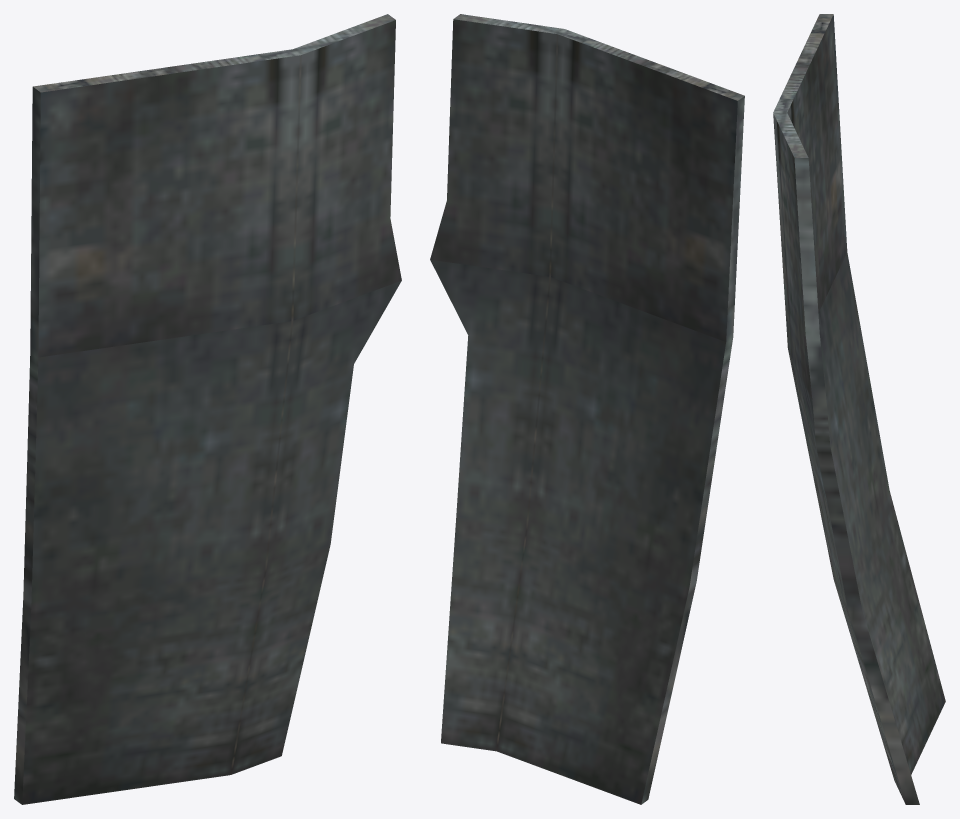
File: flower_barrel_p3.glb
3 views of the same model, side by side, from view 1: azimuth 30°, elevation 25°; view 2: azimuth 150°, elevation 25°; view 3: azimuth 270°, elevation 25° (orthographic). The views are drawn at different scales.
Visible parts, largest first — view 1: flower_barrel_p3; view 2: flower_barrel_p3; view 3: flower_barrel_p3.
Boxes of the visible parts, x1,y1,x2,y2 form: flower_barrel_p3: [14, 14, 401, 804]; flower_barrel_p3: [430, 14, 744, 804]; flower_barrel_p3: [773, 14, 945, 804].
Bounding box in the file's own units: 0.2127 × 0.439 × 0.1029.
1 material, 1 textured.
